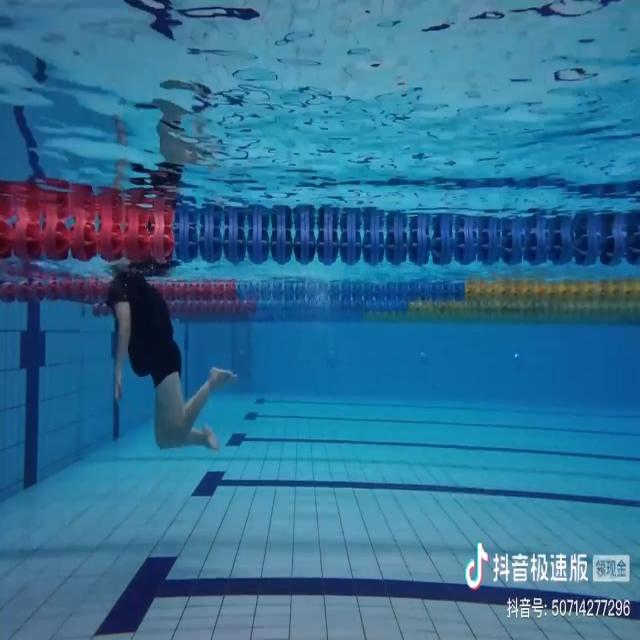Swimming: (103, 264, 239, 458)
